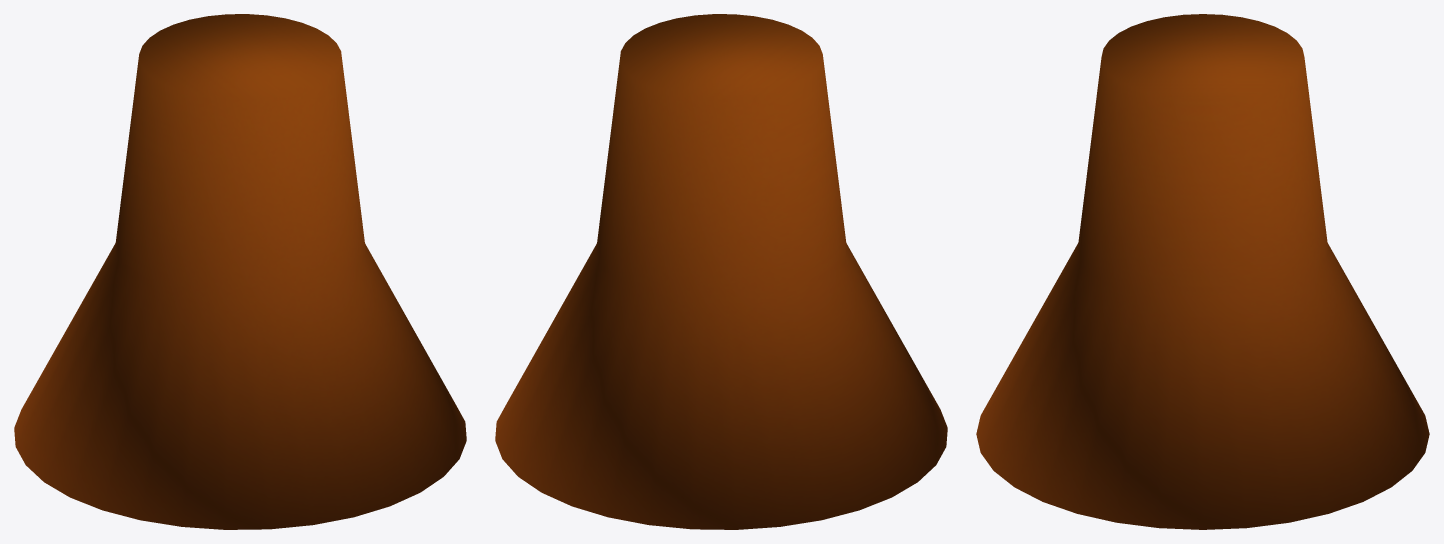
The model's file is erdtree_small.glb.
3 renders of one model, left to right at view 1: azimuth 30°, elevation 25°; view 2: azimuth 150°, elevation 25°; view 3: azimuth 270°, elevation 25°, orthographic.
Visible parts, largest first — view 1: Cylinder; view 2: Cylinder; view 3: Cylinder.
Part boxes in pixels (box(x1,y1,x2,y2)): Cylinder: box(14, 14, 466, 529); Cylinder: box(495, 14, 947, 529); Cylinder: box(976, 14, 1429, 529).
Size of the model in its own units: 4.47 by 4.1 by 4.47.
Materials: 1 (1 with a texture image).
